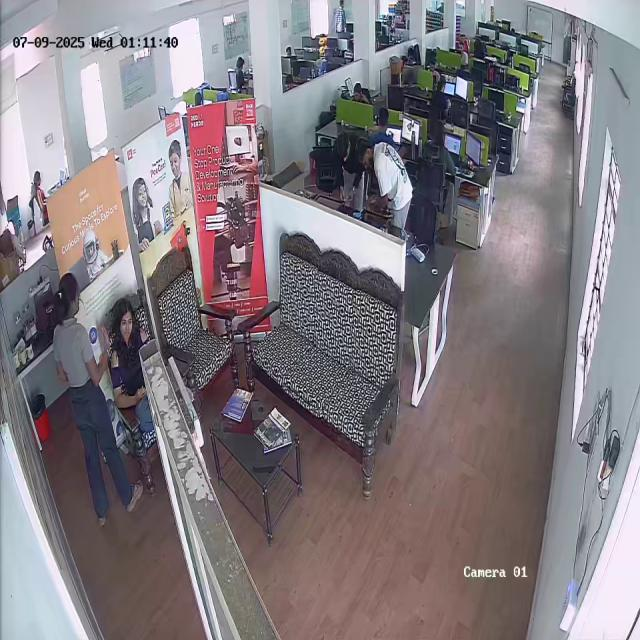person: (46, 269, 110, 528), (112, 298, 154, 438), (356, 138, 412, 236), (426, 122, 460, 217), (330, 130, 368, 214), (30, 170, 56, 222), (367, 107, 395, 142)
